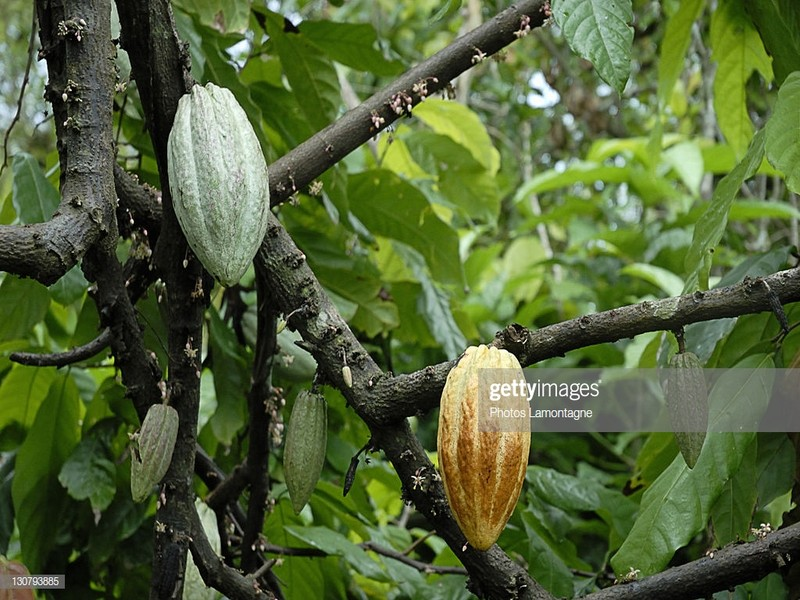Cacaopod: (167, 83, 272, 287), (437, 344, 535, 553)
